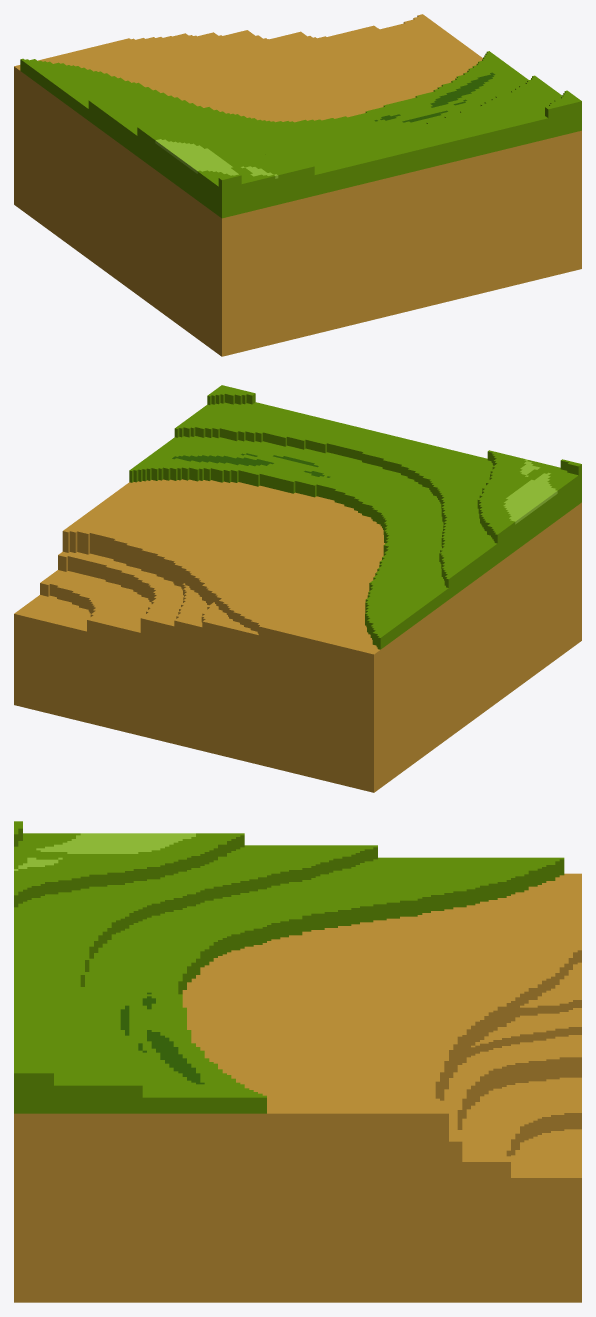
The picture shows the model from 3 angles, top to bottom: view 1: azimuth 30°, elevation 25°; view 2: azimuth 150°, elevation 25°; view 3: azimuth 270°, elevation 25°; orthographic projection. The views are drawn at different scales.
Parts seen in each view (by area): view 1: 13E; view 2: 13E; view 3: 13E.
Boxes of the visible parts, box(x1,y1,x2,y2) form: 13E: box(14, 14, 581, 356); 13E: box(14, 385, 581, 792); 13E: box(14, 821, 581, 1302).
Size of the model in its own units: 12.8 by 6 by 12.8.
Materials: 1 (1 with a texture image).
